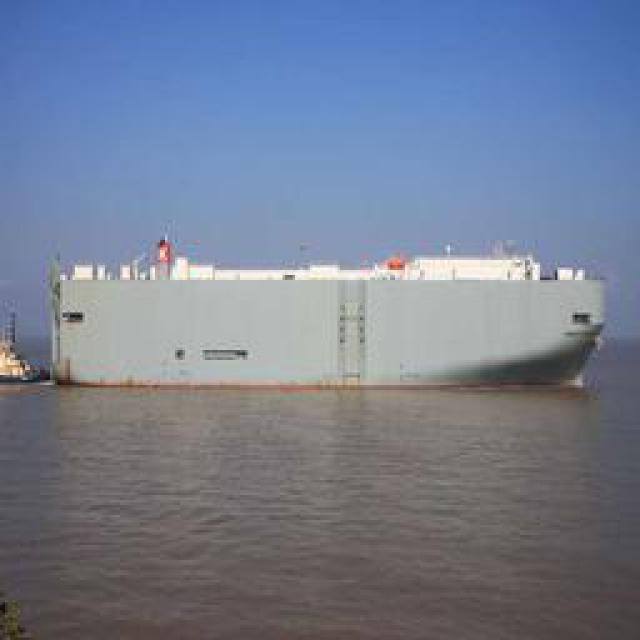Ship: (46, 243, 614, 391)
